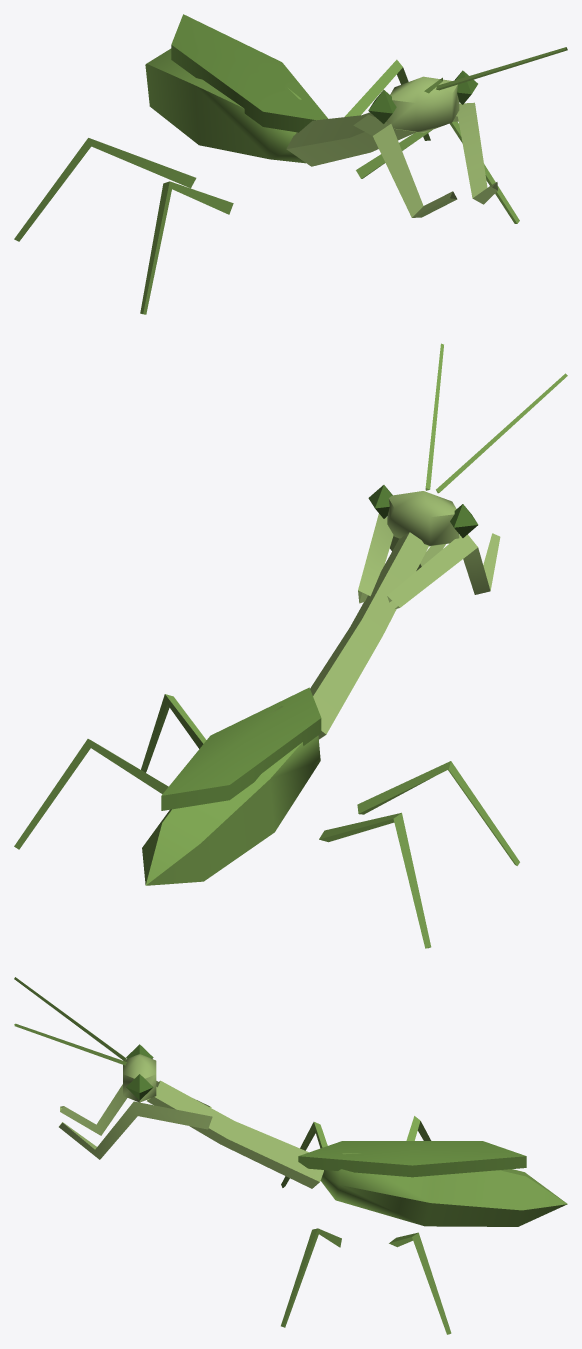
The model's file is mantis.glb.
The picture shows the model from 3 angles, top to bottom: view 1: azimuth 30°, elevation 25°; view 2: azimuth 150°, elevation 25°; view 3: azimuth 270°, elevation 25°; orthographic projection. The views are drawn at different scales.
Parts seen in each view (by area): view 1: mantis; view 2: mantis; view 3: mantis.
Boxes of the visible parts, x1,y1,x2,y2 form: mantis: [14, 14, 567, 314]; mantis: [14, 343, 567, 948]; mantis: [14, 977, 567, 1334].
Size of the model in its own units: 3.64 by 2.8 by 5.45.
